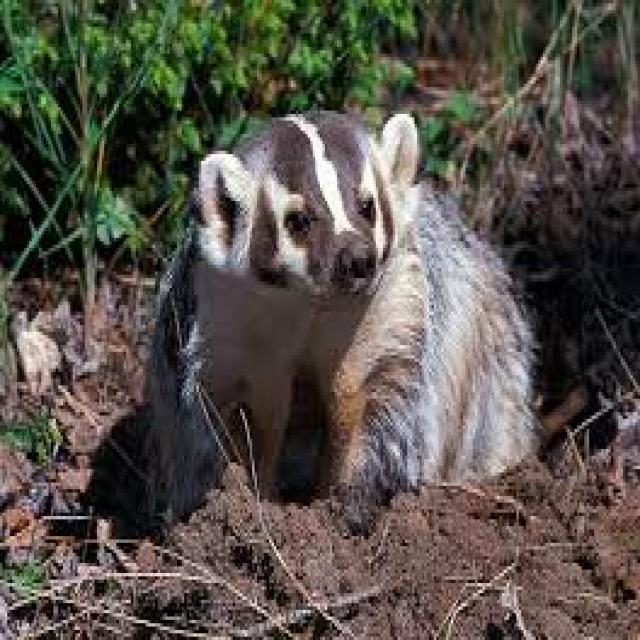badger: (150, 111, 533, 526)
